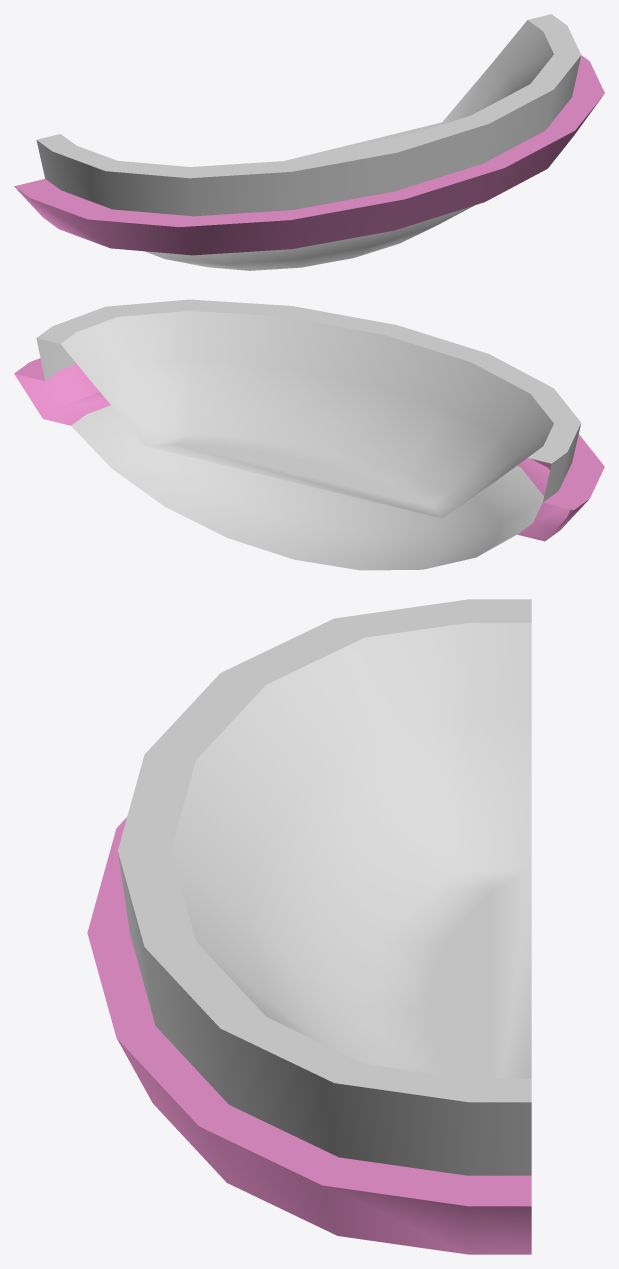
File: LampWall.fbx
3 views of the same model, one above another, from view 1: azimuth 30°, elevation 25°; view 2: azimuth 150°, elevation 25°; view 3: azimuth 270°, elevation 25° (orthographic). The views are drawn at different scales.
Visible parts, largest first — view 1: Sphere; view 2: Sphere; view 3: Sphere.
Part boxes in pixels (left/top/right/bottom): Sphere: left=14, top=14, right=604, bottom=270; Sphere: left=14, top=299, right=604, bottom=570; Sphere: left=87, top=599, right=531, bottom=1254.
Bounding box in the file's own units: 72.61 × 19.67 × 24.94.
